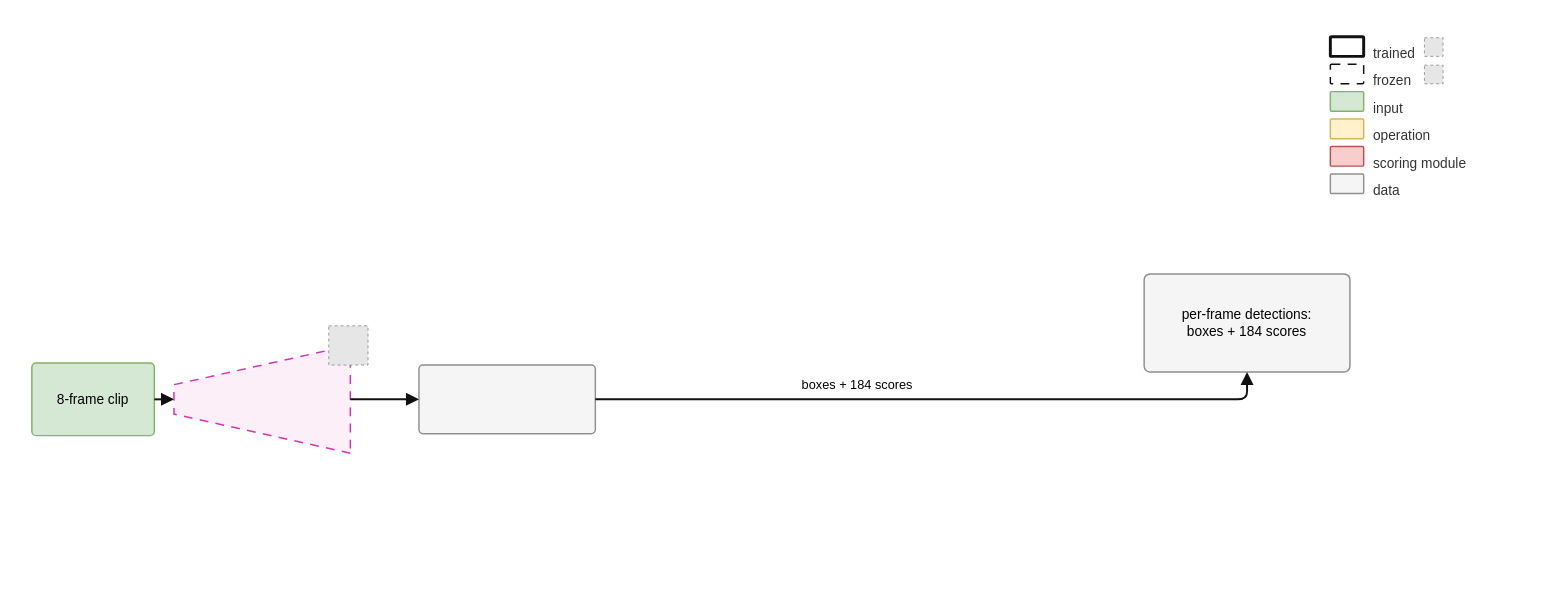
The diagram is 1562 pixels wide and 597 high, and some of its shapes have lost their labels. Grey dashed boxes stand in for pictures. The shapes that lost their labels are listed below. From the top down, each one's box as (x1, y1, x2, y2) in pixels, then its label:
(173, 344, 351, 454): 3D-RetinaNet (I3D + FPN + heads)
(418, 364, 596, 434): 3D-RetinaNet detections + 184 scores per frame
